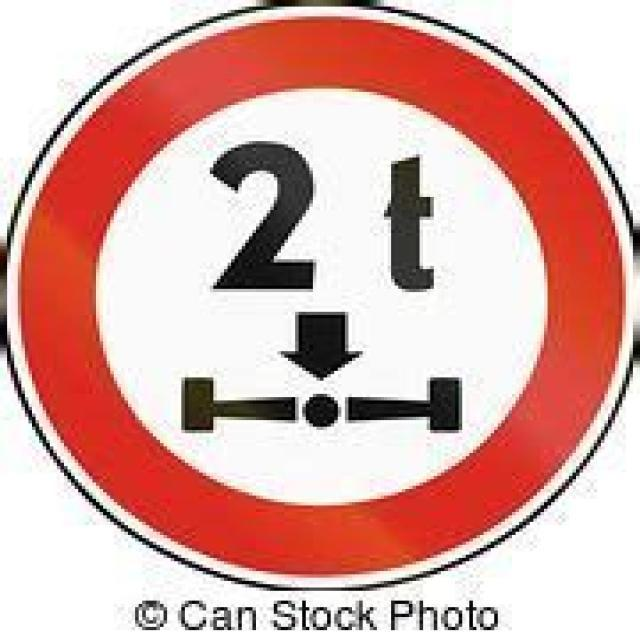axle load limit: (16, 13, 629, 582)
